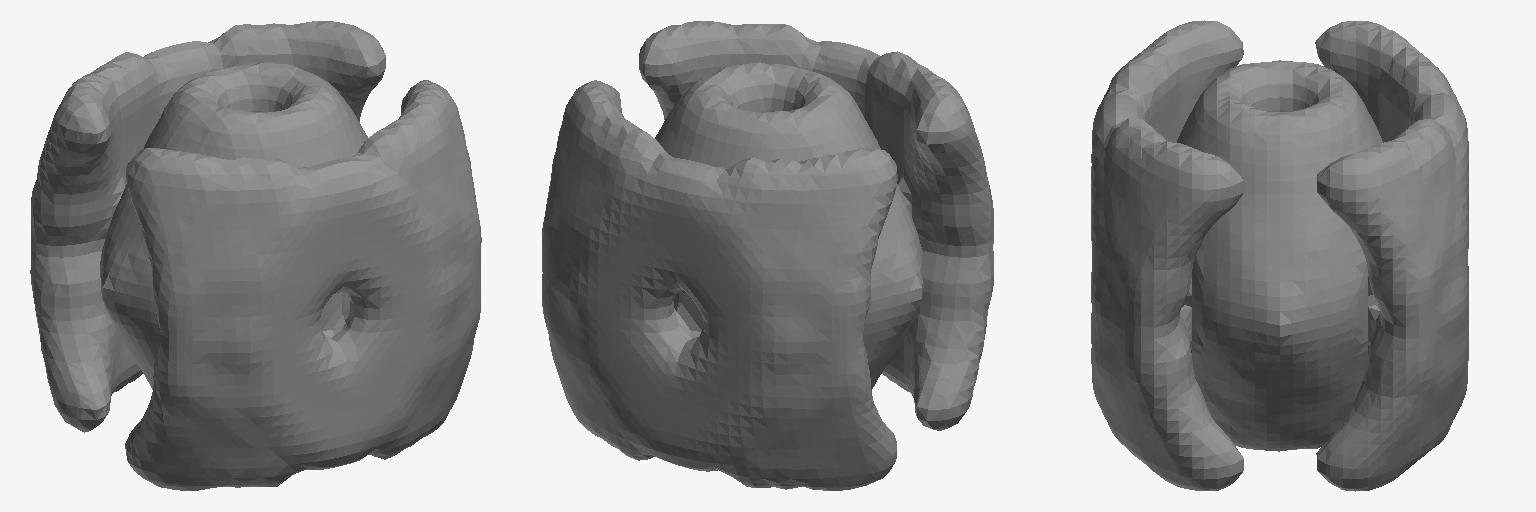
URDF robot description (cube.urdf):
<?xml version="0.0" ?> 
<robot name="cube.urdf"> 
<link name="legobrick"> 
<contact> 
<lateral_friction value="5.0"/> 
<rolling_friction value="0.0"/> 
<contact_cfm value="0.0"/> 
<contact_erp value="1.0"/> 
</contact> 
<inertial> 
<origin rpy="0 0 0" xyz="0.0 0.0 0.0"/> 
<mass value=".01"/> 
<inertia ixx="1" ixy="0" ixz="0" iyy="1" iyz="0" izz="1"/> 
</inertial> 
<visual> 
<origin rpy="1.570796 0 0" xyz="-0.02592279979660332 0.025893241881909227 -0.02587234669020021"/> 
<geometry> 
<mesh filename="J12_1.obj" scale="0.0006912207735904846 0.0006912207735904846 0.0006912207735904846"/> 
</geometry> 
<material name="yellow"> 
<color rgba="0.6 0.6 0.6 1"/> 
</material> 
</visual> 
<collision> 
<origin rpy="1.570796 0 0" xyz="-0.02592279979660332 0.025893241881909227 -0.02587234669020021"/> 
<geometry> 
<mesh filename="J12_1.obj" scale="0.0006912207735904846 0.0006912207735904846 0.0006912207735904846"/> 
</geometry> 
</collision> 
</link> 
</robot>

--- Render facts (derived) ---
Views: 3 orthographic renders of the robot side by side, from view 1: azimuth 30°, elevation 25°; view 2: azimuth 150°, elevation 25°; view 3: azimuth 270°, elevation 25°.
Model cube.urdf with 1 links and 0 joints (none), rooted at legobrick, posed all joints at 0.
Links seen in each view (by area): view 1: legobrick; view 2: legobrick; view 3: legobrick.
Link boxes in pixels (bbox=[...]): legobrick: bbox=[30, 21, 481, 490]; legobrick: bbox=[542, 21, 993, 490]; legobrick: bbox=[1091, 20, 1468, 491].
Bounding box of the posed robot: 0.056 × 0.0561 × 0.0553 m (x, y, z).
1 mesh visuals loaded from 1 distinct referenced files (1 OBJ).
